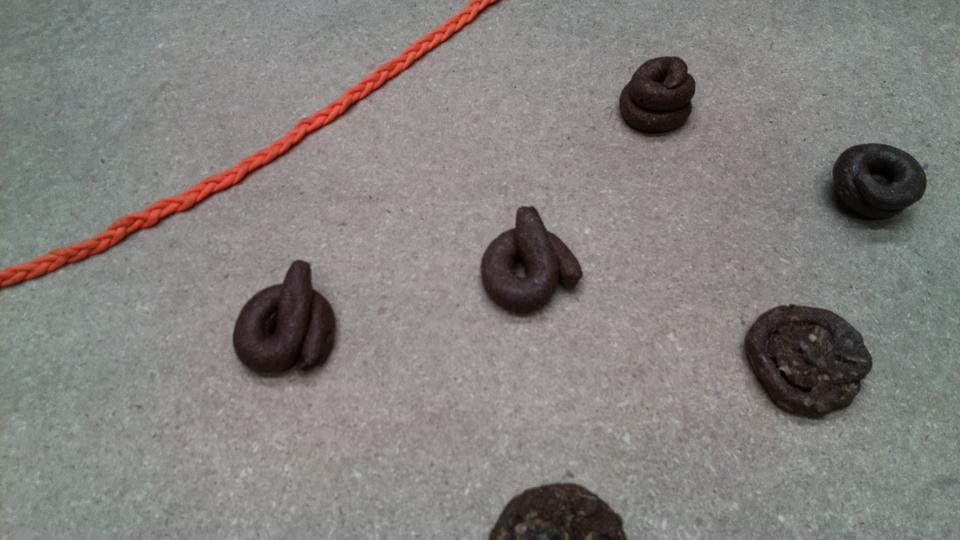poop: (740, 300, 876, 424), (229, 255, 341, 379), (479, 202, 585, 318), (827, 139, 931, 226), (483, 481, 631, 540), (616, 53, 700, 138)
rope: (1, 1, 481, 285)
